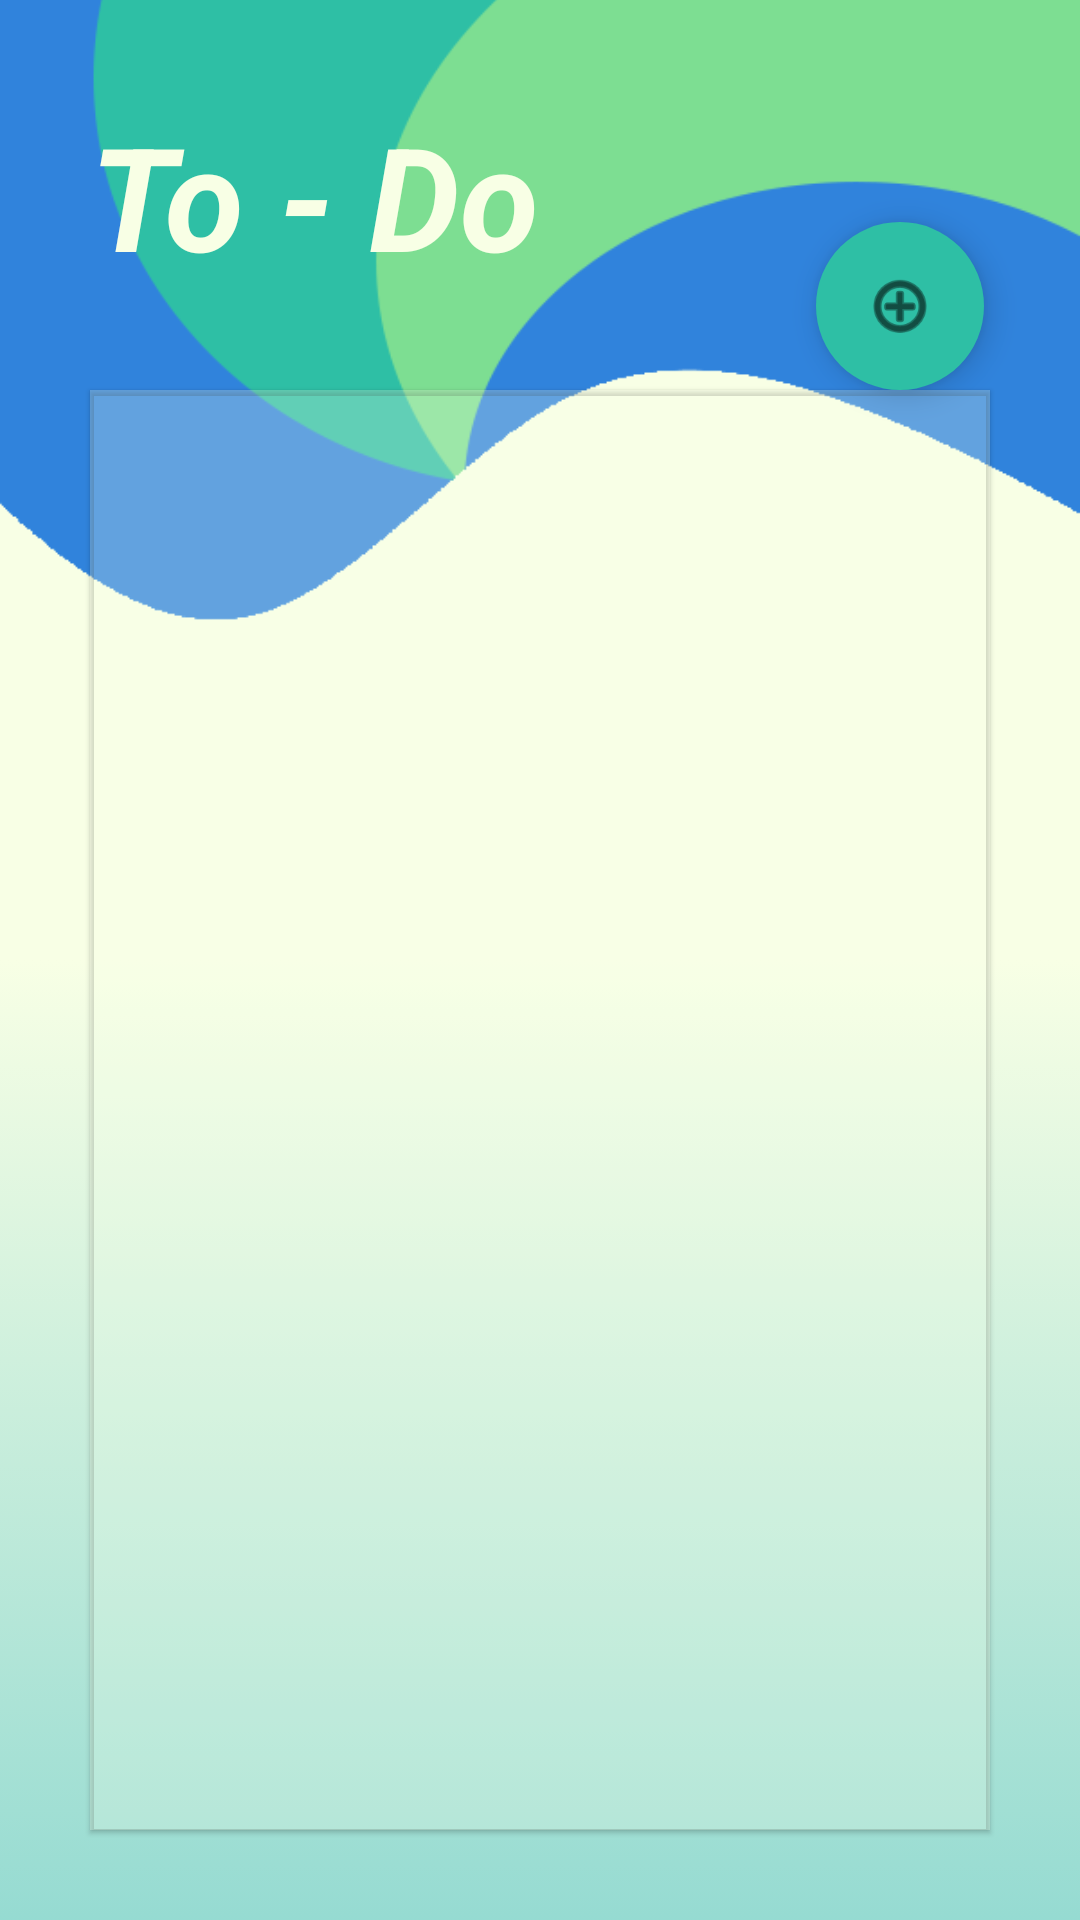

Icons on this 1080w x 1920h Android screen, each with its box as rect(x1, y1, x2, y2):
Add a Task: rect(816, 222, 984, 390)
